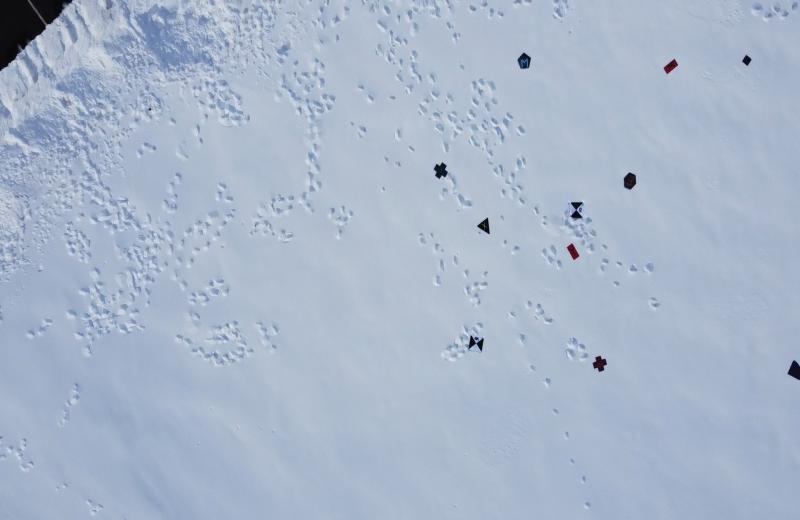Cross: (592, 355, 608, 374), (432, 161, 448, 179)
Hexagon: (622, 170, 638, 189)
Pentagon: (516, 51, 533, 71)
Quarter Circle: (787, 359, 800, 380)
Rectangle: (663, 58, 679, 74), (567, 242, 580, 260)
Square: (740, 53, 754, 67)
Triangle: (476, 215, 492, 236)
